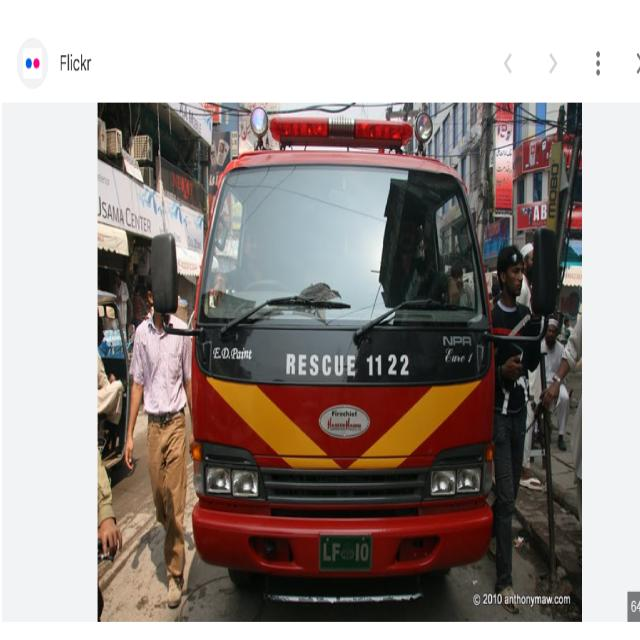fire brigade: (198, 155, 519, 560)
